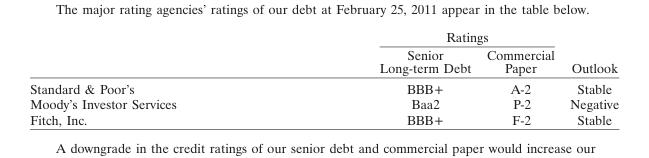table: (29, 28, 618, 127)
table column: (29, 28, 277, 127), (277, 28, 478, 127), (478, 28, 561, 127), (561, 28, 618, 127)
table column header: (29, 28, 618, 77)
table row: (29, 45, 618, 77), (29, 77, 618, 95), (29, 28, 618, 45), (29, 95, 618, 111), (29, 111, 618, 127)
table spanning cell: (277, 28, 561, 45), (561, 28, 618, 77)
